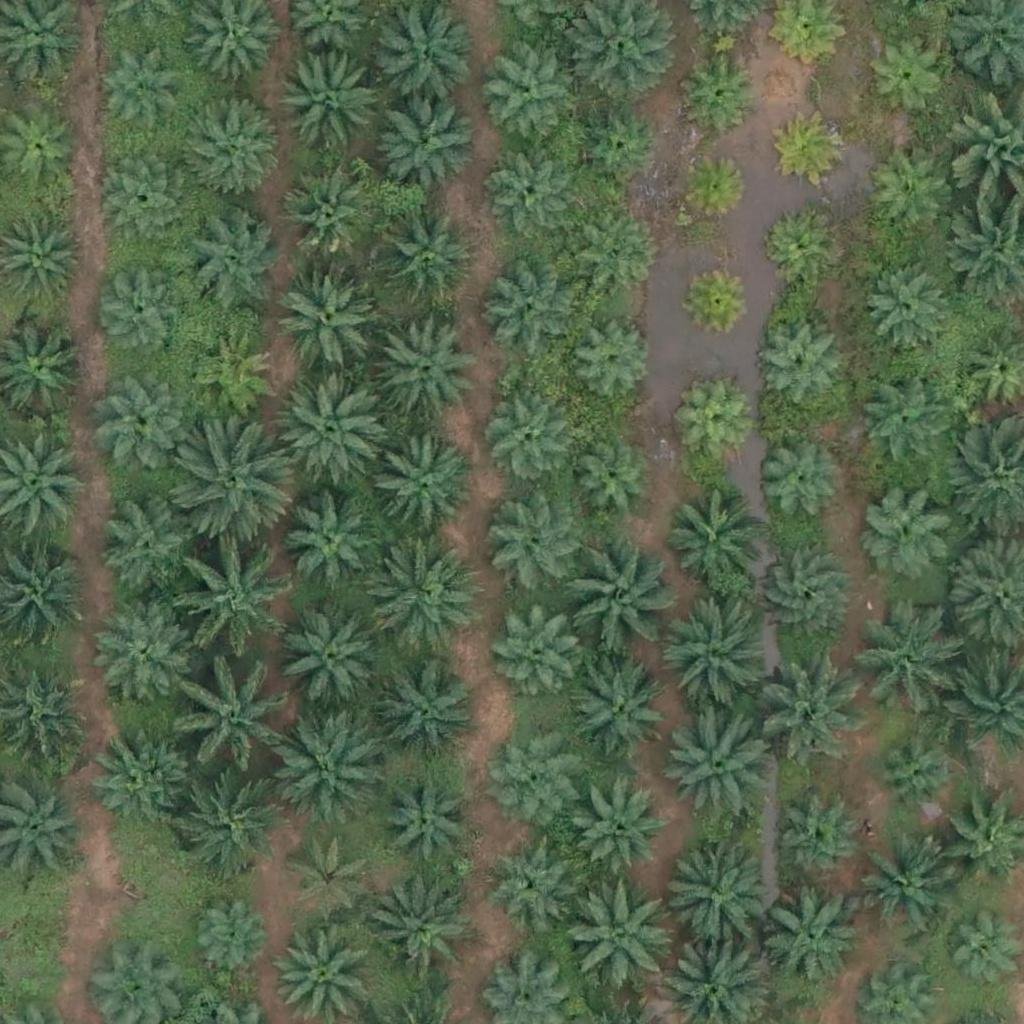Kelapa_Sawit: (656, 705, 769, 819), (653, 836, 766, 949), (365, 435, 478, 548), (366, 544, 479, 657), (276, 601, 389, 714), (175, 427, 288, 540), (659, 601, 771, 715), (561, 878, 673, 992), (753, 646, 865, 759), (557, 540, 669, 653), (277, 379, 389, 492), (274, 717, 386, 830), (177, 552, 289, 665), (177, 670, 289, 783), (172, 768, 284, 881), (850, 841, 950, 942), (850, 613, 950, 714), (760, 889, 860, 990), (663, 489, 763, 590), (566, 657, 666, 758), (487, 494, 587, 595), (376, 314, 476, 415), (370, 887, 470, 988), (283, 494, 383, 595), (100, 604, 200, 705), (87, 723, 187, 824), (372, 6, 472, 107), (377, 89, 477, 190), (277, 262, 377, 363), (376, 206, 476, 307), (483, 258, 583, 359), (279, 54, 379, 155), (183, 91, 283, 192), (857, 479, 957, 579), (755, 547, 855, 647), (104, 497, 204, 597), (184, 209, 284, 309), (377, 662, 476, 763), (92, 265, 180, 354), (871, 730, 959, 818), (752, 321, 840, 409), (578, 790, 666, 878), (478, 393, 566, 481), (574, 101, 662, 189), (574, 219, 662, 307), (860, 29, 948, 117), (865, 152, 953, 240), (484, 57, 572, 145), (485, 149, 573, 237), (95, 50, 183, 138), (99, 154, 187, 242), (1, 217, 89, 305), (857, 378, 944, 467), (289, 833, 376, 922), (754, 437, 841, 525), (776, 799, 863, 887), (570, 317, 657, 405), (567, 441, 654, 529), (481, 836, 568, 924), (490, 724, 577, 812), (493, 609, 580, 697), (384, 775, 471, 863), (188, 896, 275, 984), (99, 370, 186, 458), (864, 261, 951, 349), (282, 171, 369, 259), (190, 331, 277, 419), (759, 207, 834, 283), (942, 916, 1017, 992), (676, 387, 751, 463), (681, 260, 756, 336), (774, 111, 849, 187), (684, 53, 759, 128), (676, 150, 751, 225)
